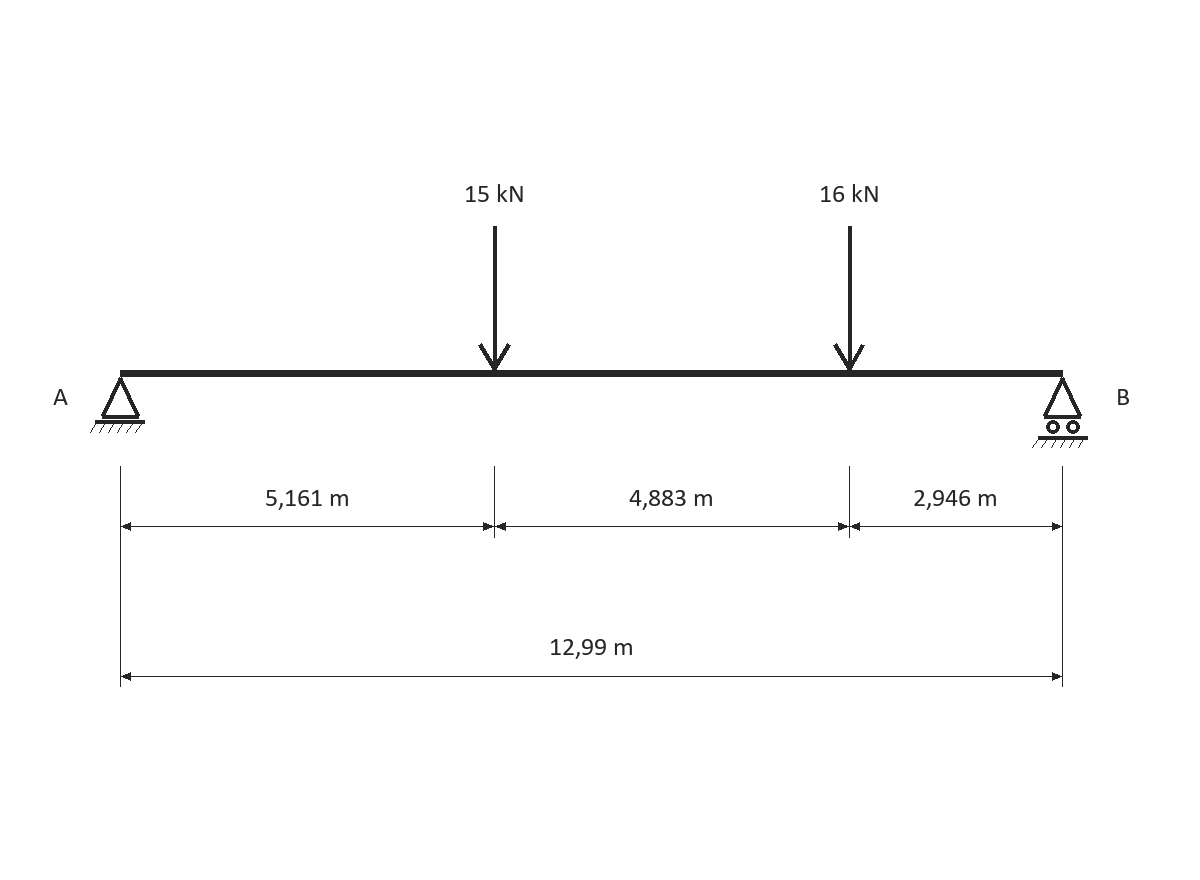pin_support: (90, 377, 145, 433)
point_load: (478, 226, 511, 371), (833, 226, 865, 371)
roller_support: (1032, 377, 1088, 448)
